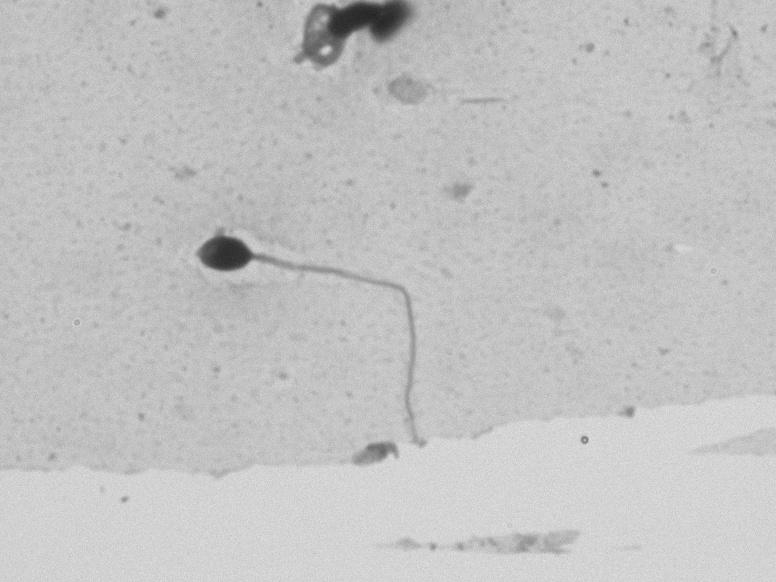Abnormal: (178, 205, 477, 432)
